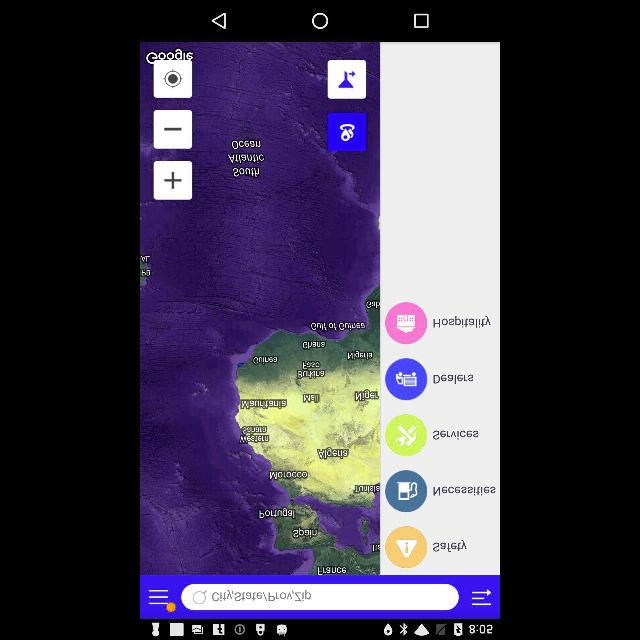icon: (385, 526, 427, 568), (385, 415, 427, 457), (386, 358, 426, 399), (386, 302, 426, 343), (164, 66, 182, 88), (472, 589, 492, 605), (148, 589, 168, 605), (312, 13, 328, 29), (212, 13, 226, 29), (414, 14, 428, 28)
input: (182, 584, 458, 610), (386, 472, 426, 512)
map: (140, 42, 380, 576)
panel: (140, 1, 500, 42)
text: (434, 316, 491, 328), (434, 486, 496, 496), (434, 430, 478, 440), (434, 374, 474, 384), (434, 540, 466, 552)
toolbar: (380, 42, 500, 576), (140, 576, 500, 618)
uppertaskbar: (141, 619, 499, 639)
